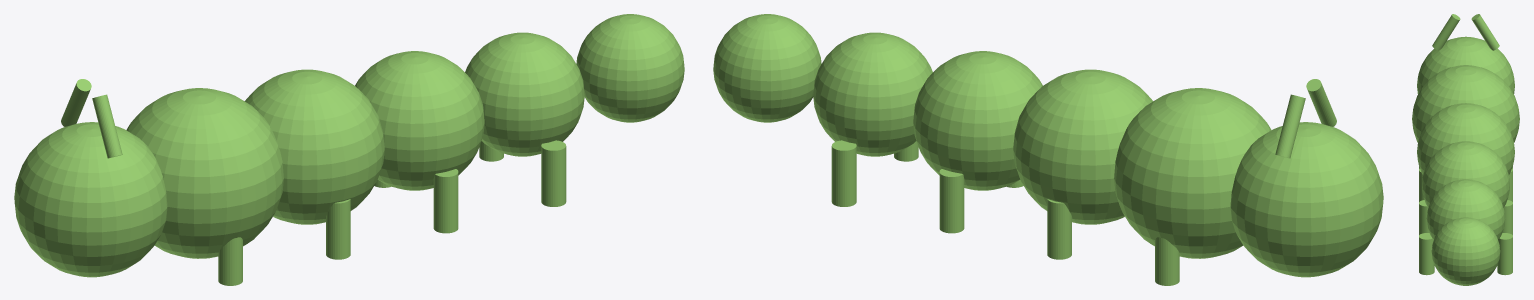
The model's file is caterpillar.glb.
3 renders of one model, left to right at view 1: azimuth 30°, elevation 25°; view 2: azimuth 150°, elevation 25°; view 3: azimuth 270°, elevation 25°, orthographic. The views are drawn at different scales.
Parts seen in each view (by area): view 1: Sphere.001, Sphere, Sphere.002, Sphere.003, Sphere.004, Sphere.005, Cylinder.008, Cylinder.006, Cylinder.004, Cylinder.002, Cylinder, Cylinder.001; view 2: Sphere.001, Sphere, Sphere.002, Sphere.003, Sphere.004, Sphere.005, Cylinder.009, Cylinder.007, Cylinder.005, Cylinder.003, Cylinder.001, Cylinder; view 3: Sphere.001, Sphere.002, Sphere.005, Sphere.003, Sphere.004, Sphere, Cylinder.008, Cylinder.009, Cylinder, Cylinder.001, Cylinder.006, Cylinder.007 (+2 smaller).
Boxes of the visible parts, x1,y1,x2,y2 form: Sphere.001: (126,88,283,258); Sphere: (14,122,167,277); Sphere.002: (244,69,384,224); Sphere.003: (355,51,484,190); Sphere.004: (465,32,584,156); Sphere.005: (576,14,684,122); Cylinder.008: (541,140,566,206); Cylinder.006: (433,169,458,233); Cylinder.004: (326,199,350,259); Cylinder.002: (218,237,242,285); Cylinder: (92,94,122,158); Cylinder.001: (61,79,91,126); Sphere.001: (1114,88,1271,258); Sphere: (1230,122,1383,277); Sphere.002: (1013,69,1153,224); Sphere.003: (913,51,1042,190); Sphere.004: (813,32,932,156); Sphere.005: (713,14,821,122); Cylinder.009: (831,140,856,206); Cylinder.007: (939,169,964,233); Cylinder.005: (1047,199,1071,259); Cylinder.003: (1155,237,1179,285); Cylinder.001: (1275,94,1305,158); Cylinder: (1306,79,1336,126); Sphere.001: (1412,65,1519,142); Sphere.002: (1417,103,1514,174); Sphere.005: (1431,217,1500,285); Sphere.003: (1422,141,1509,207); Sphere.004: (1426,179,1505,239); Sphere: (1417,36,1514,93); Cylinder.008: (1419,233,1434,275); Cylinder.009: (1497,233,1512,275); Cylinder: (1432,14,1460,50); Cylinder.001: (1471,14,1499,50); Cylinder.006: (1419,200,1429,234); Cylinder.007: (1502,200,1512,234).
Size of the model in its own units: 0.485 by 0.1398 by 0.11.
